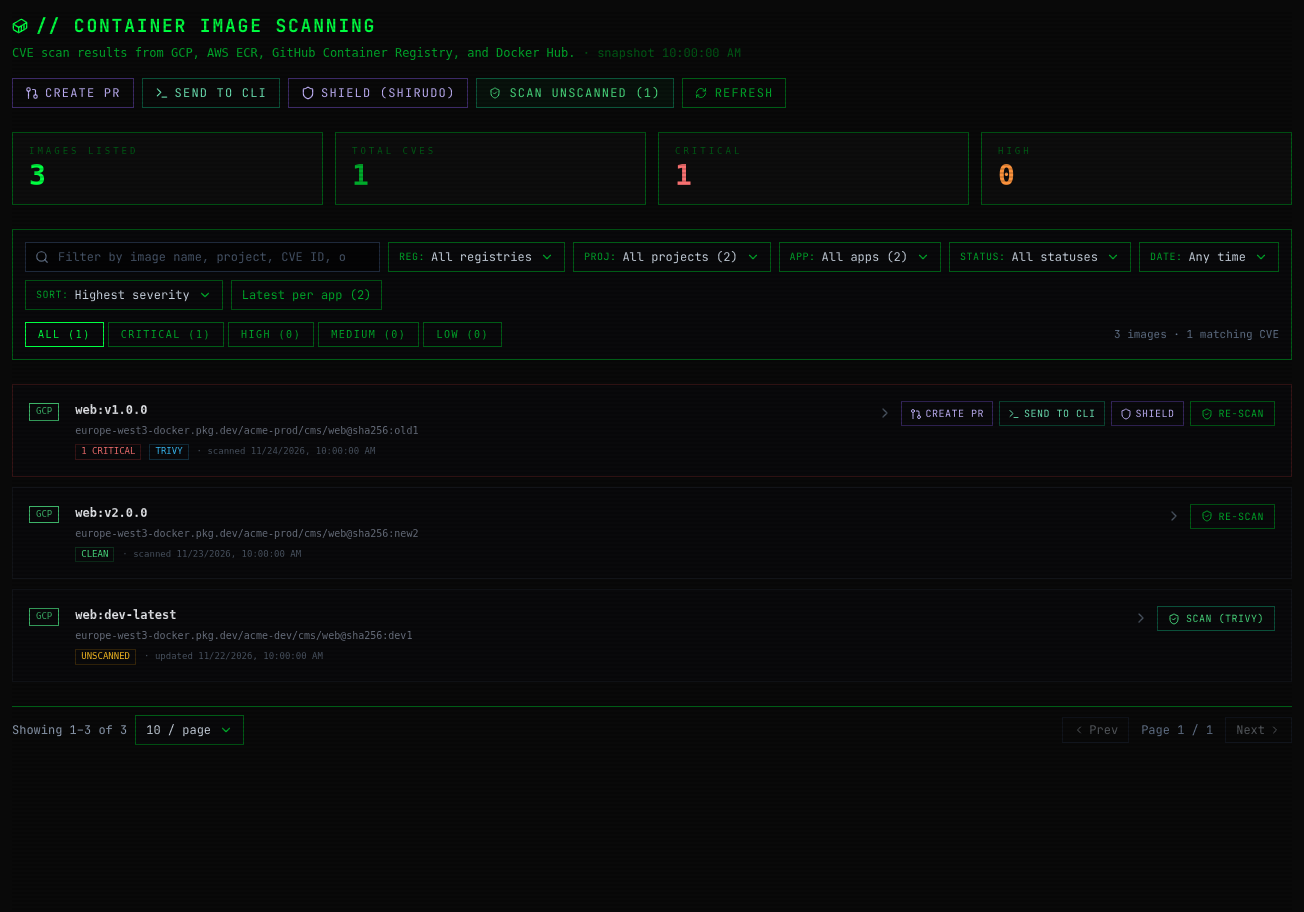
Scenario: ContainerScanPage › uses custom TerminalSelect dropdowns and filters to the latest image per application
This screenshot has width=1304, height=912.
expect the text "web:v1.0.0" is shown: met, box [75,403,148,417]
Toggle "Latest per app (2)"
Click the button "Latest per app (2)". click: (306,295)
box: [231,280,382,310]
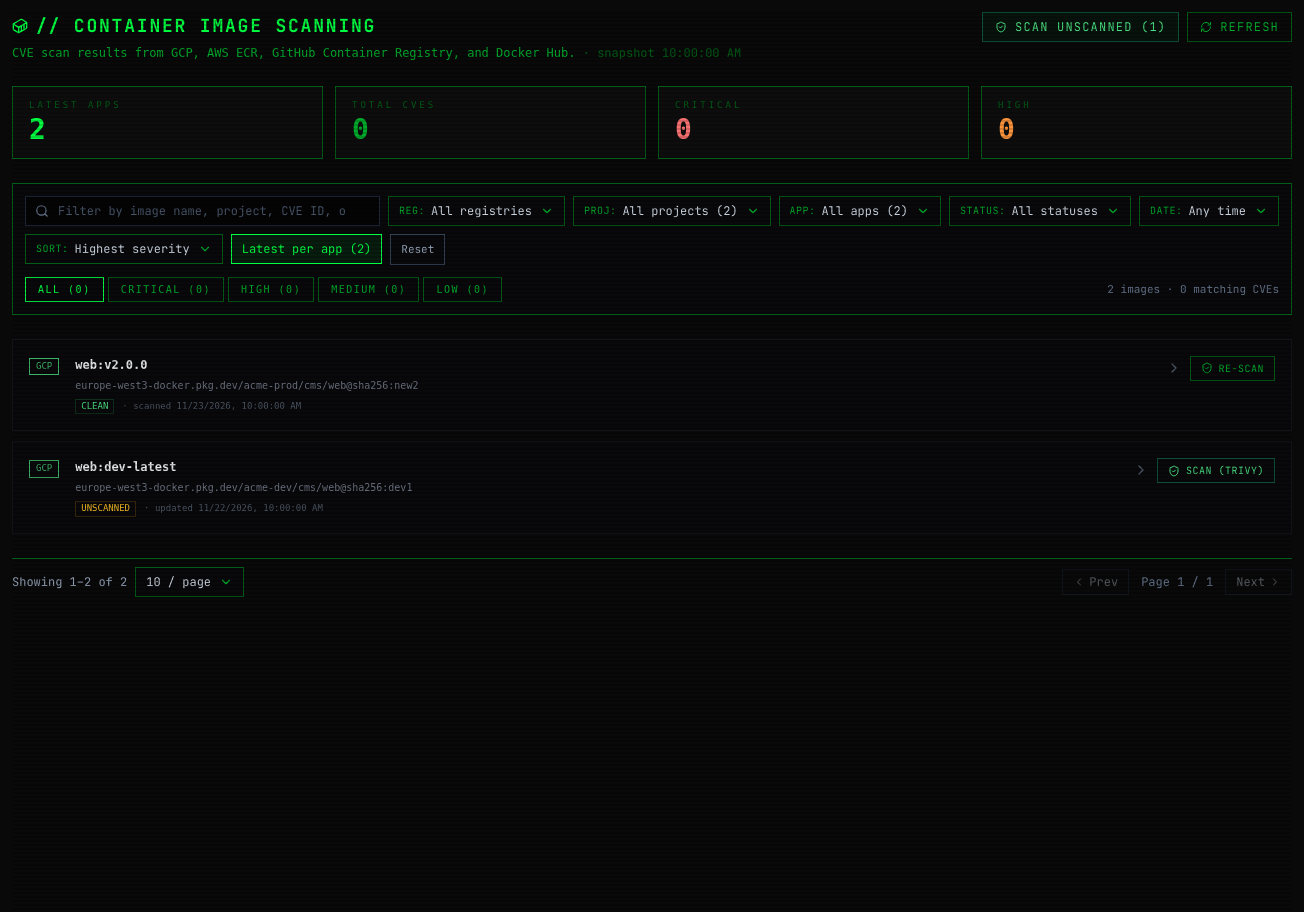
expect the text "web:v2.0.0" is shown: met, box [75,358,148,372]
expect the button "web:v1.0.0" is gone: met
Click the button with aria-label "Filter by scan status". click: (1040,211)
box: [949,196,1131,226]
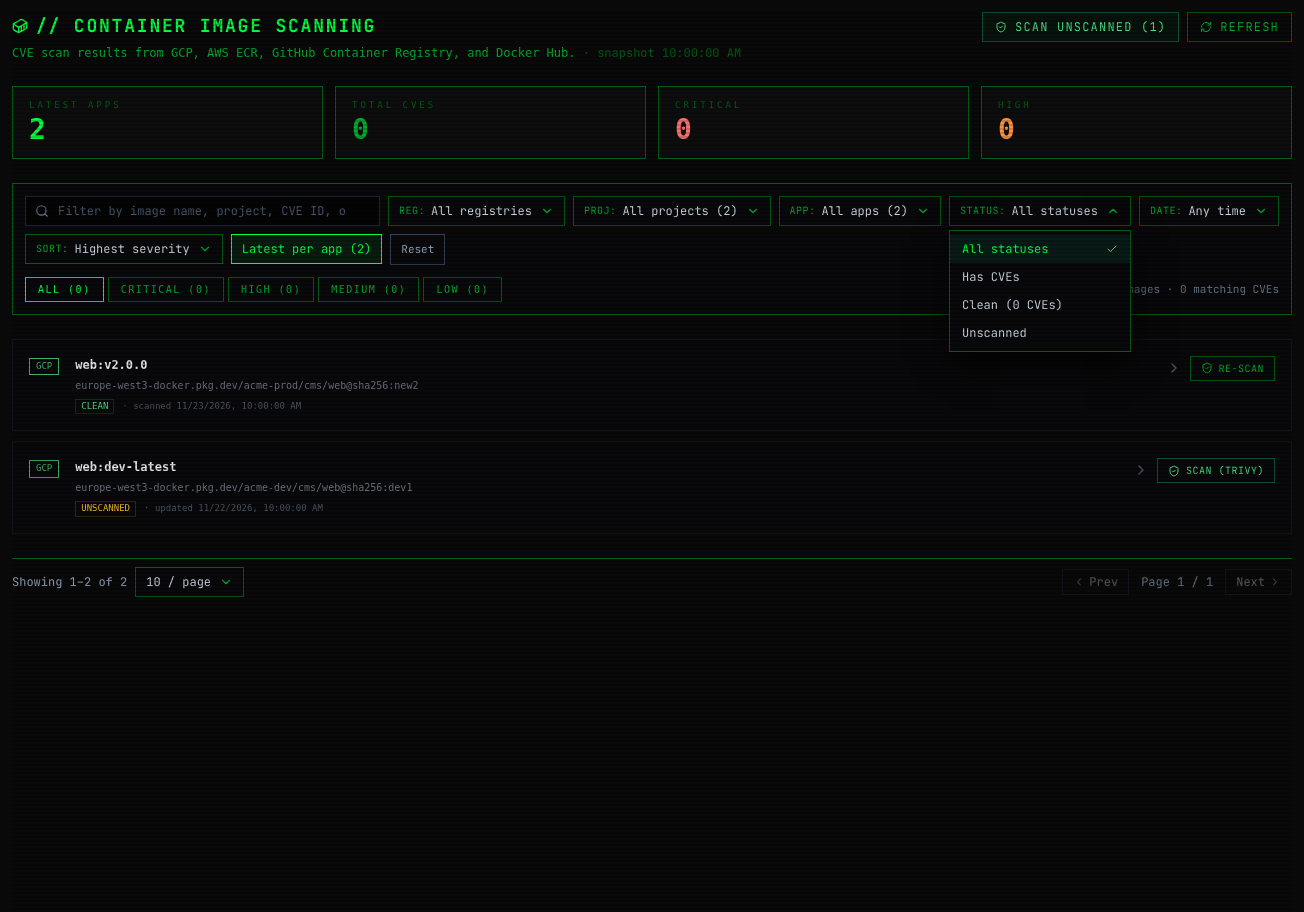
Click the option "Clean (0 CVEs)". click: (1040,305)
box: [950,291,1130,319]
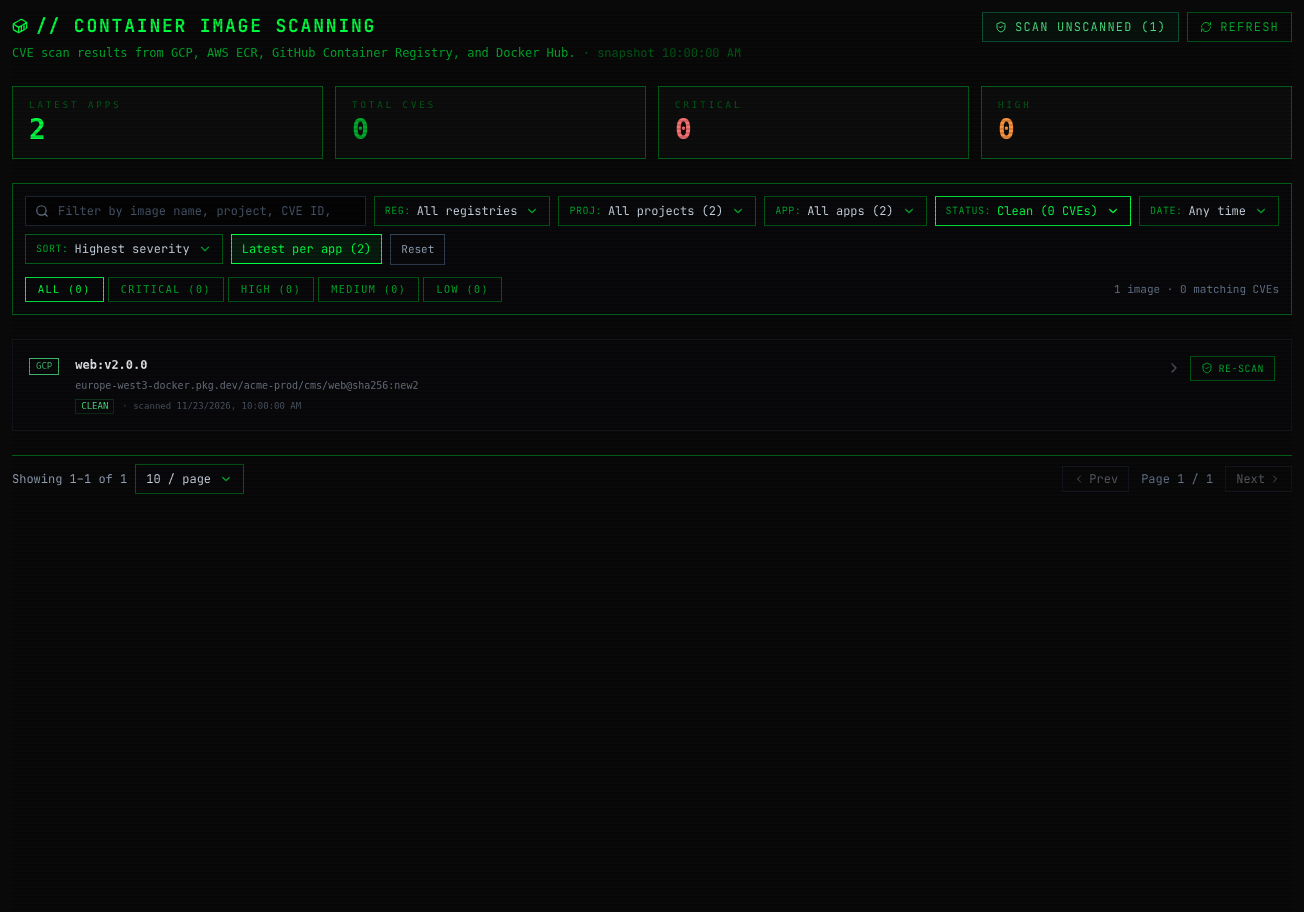
expect the text "web:v2.0.0" is shown: met, box [75,358,148,372]
expect the button "web:dev-latest" is gone: met
